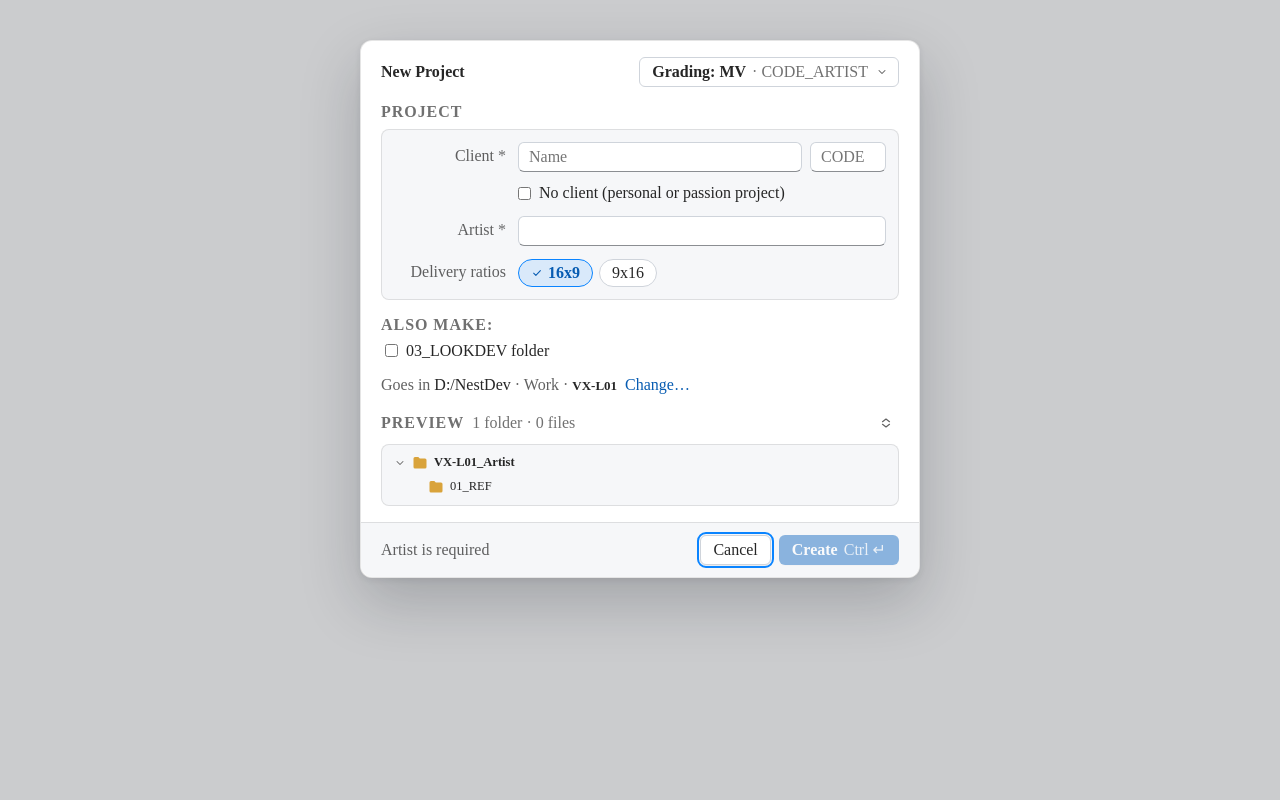
NewProjectSheet › keeps Create disabled until required fields are valid
expect the button "Create Ctrl ↵" is disabled: met, box left=779, top=534, right=899, bottom=564
expect the text "Artist is required" is shown: met, box left=381, top=540, right=489, bottom=558
In the field labelled "Artist *": (702, 230) left=518, top=216, right=886, bottom=246, type "KIRA"
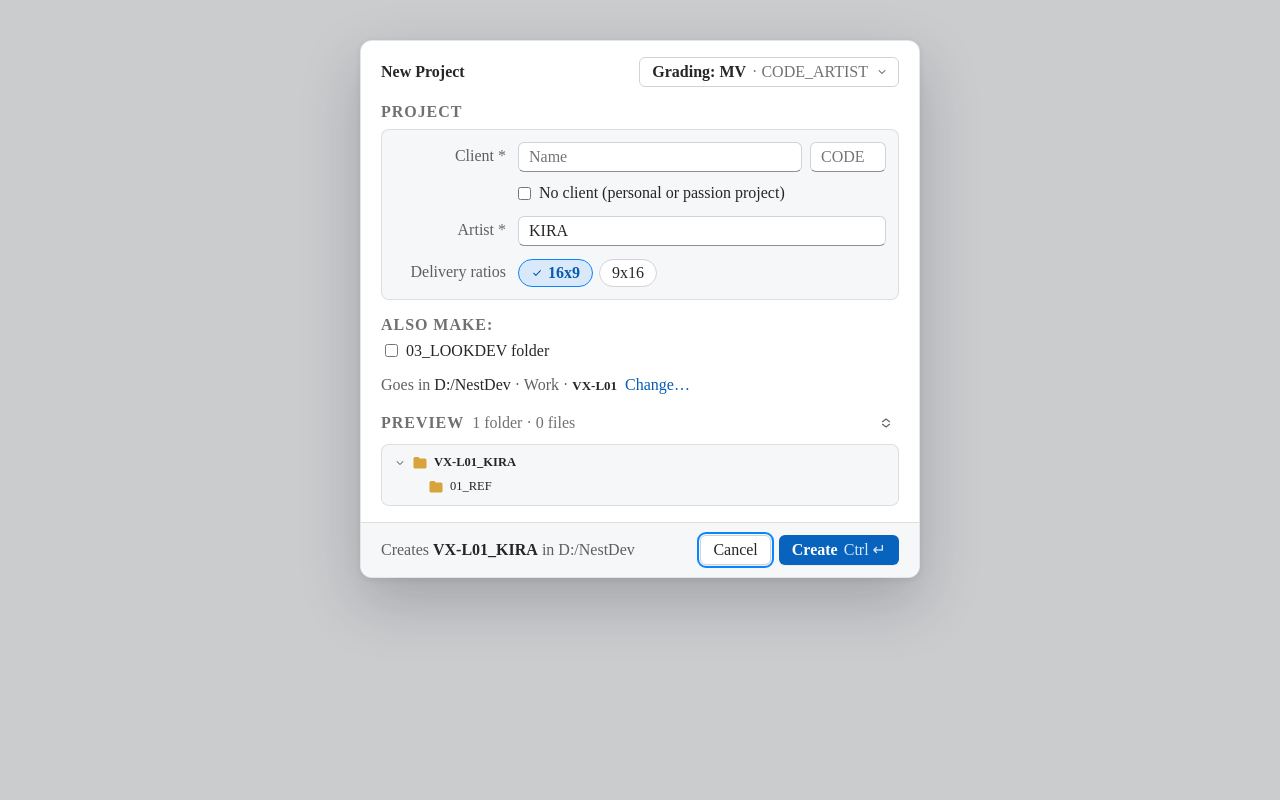
expect the button "Create Ctrl ↵" is enabled: met, box left=779, top=534, right=899, bottom=564
